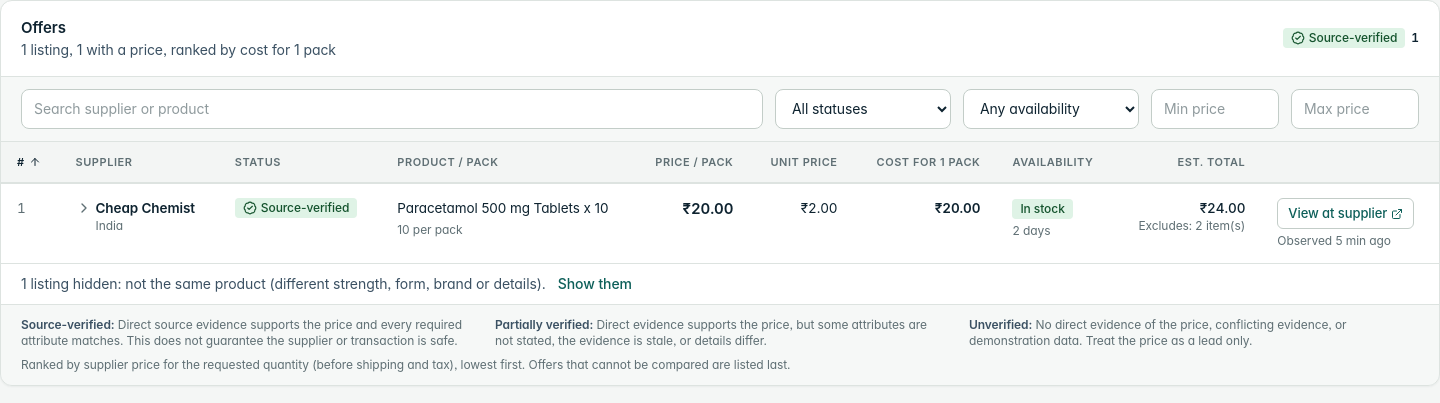
Test: OffersSection › tells the user how many non-matching listings are hidden and lets them show them
Expected: the text "1 listing hidden: not the same product" is shown, [21,274,546,294]
Click the button "Show them" at point(595, 284), box [558,274,632,294]
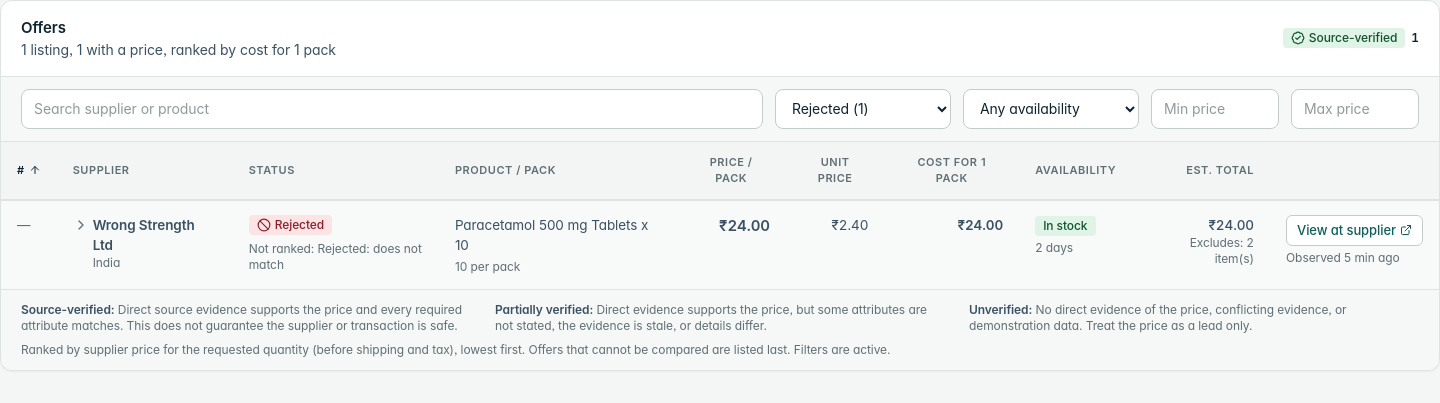
Result: the text "Wrong Strength Ltd" is shown at [93,216,194,253]
Result: the text "listing hidden" is gone
